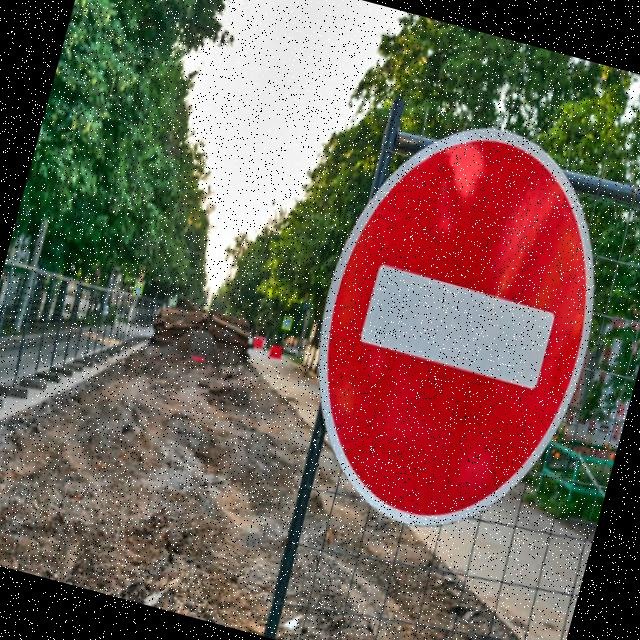do_not_enter: (265, 76, 640, 552)
